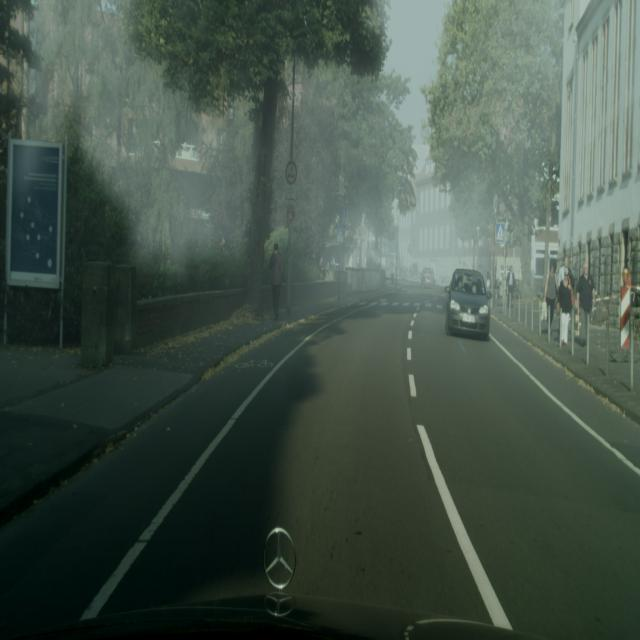person: (576, 261, 595, 357), (557, 266, 575, 351), (543, 261, 558, 343), (269, 242, 284, 321), (620, 266, 631, 353), (507, 265, 516, 314)
truck: (445, 268, 491, 340), (420, 268, 436, 289)
